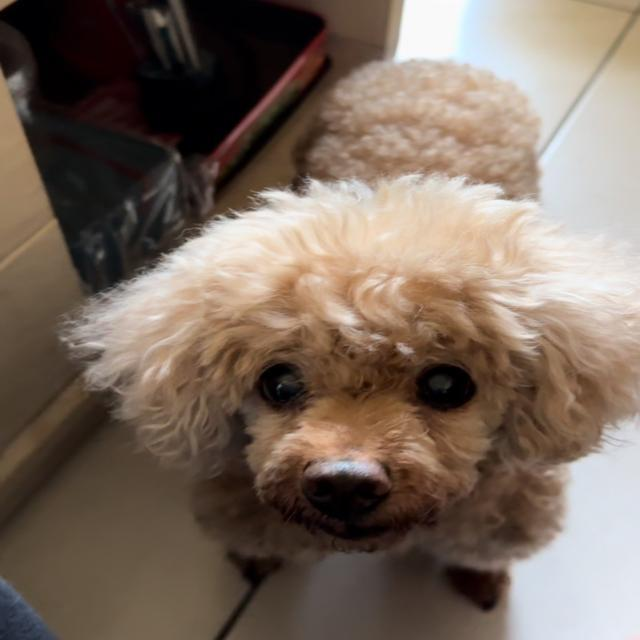adult_dog: (70, 50, 640, 607)
